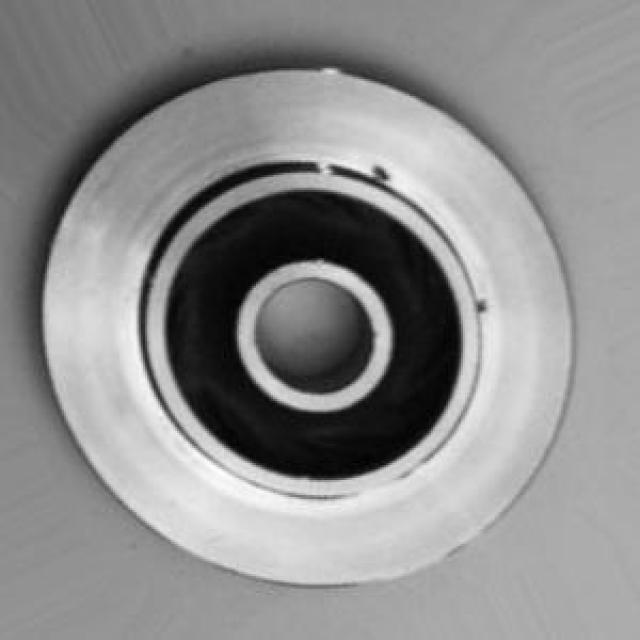Defect: (472, 290, 507, 319), (364, 158, 396, 187)
